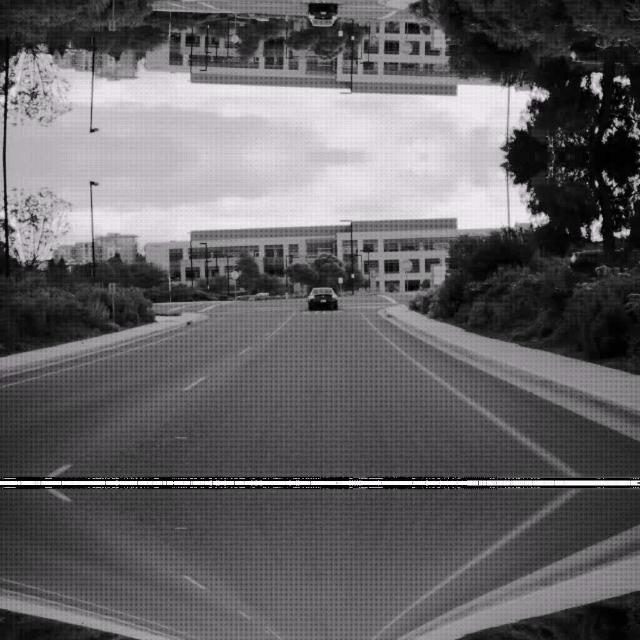stop: (398, 41, 412, 54), (398, 258, 412, 270)
